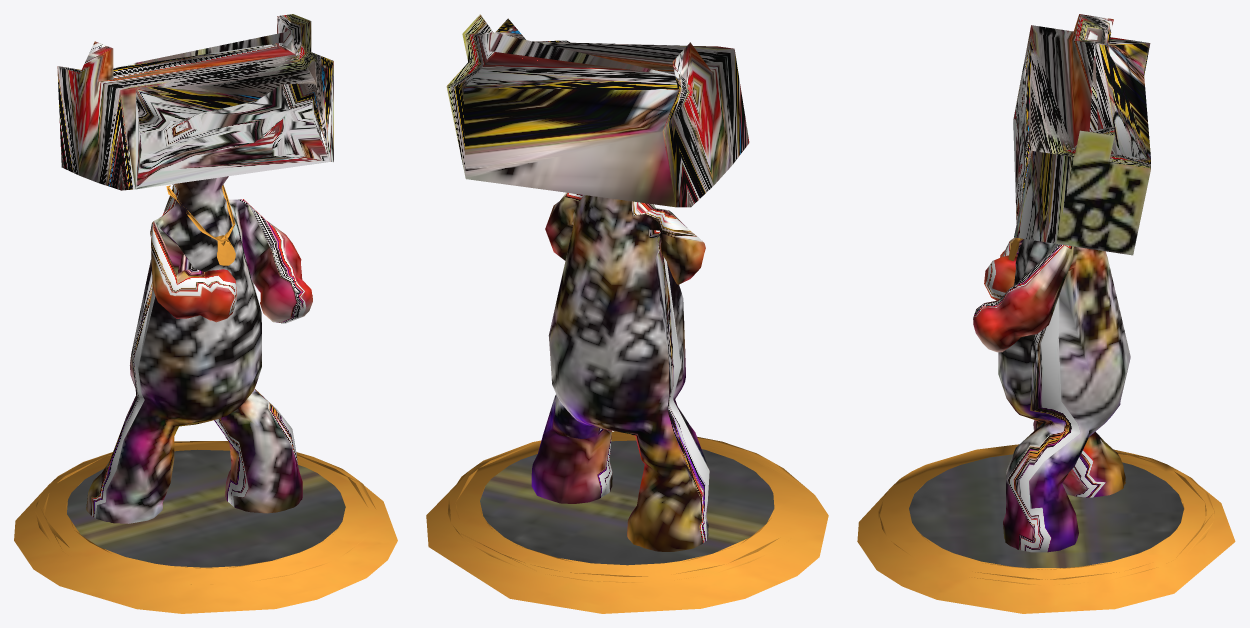
3 renders of one model, left to right at view 1: azimuth 30°, elevation 25°; view 2: azimuth 150°, elevation 25°; view 3: azimuth 270°, elevation 25°, orthographic. The views are drawn at different scales.
Size of the model in its own units: 1.44 by 2.03 by 1.44.
Materials: 4 (4 with a texture image).
